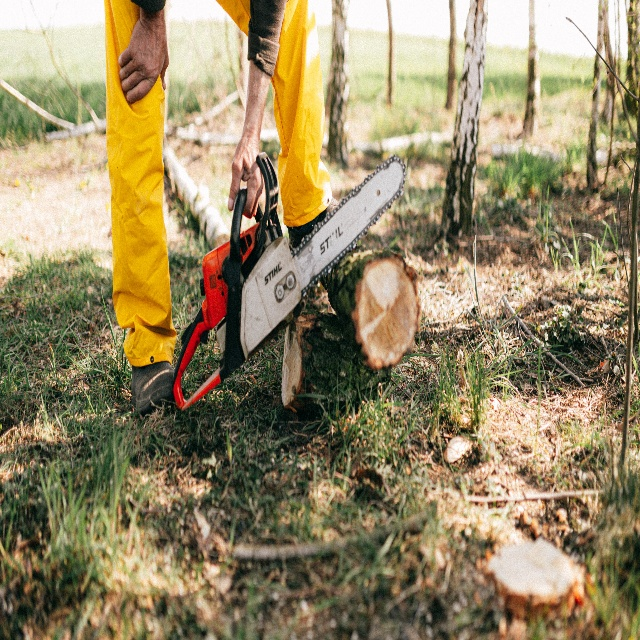Sin_guantes: (117, 5, 170, 106), (228, 127, 263, 218)
